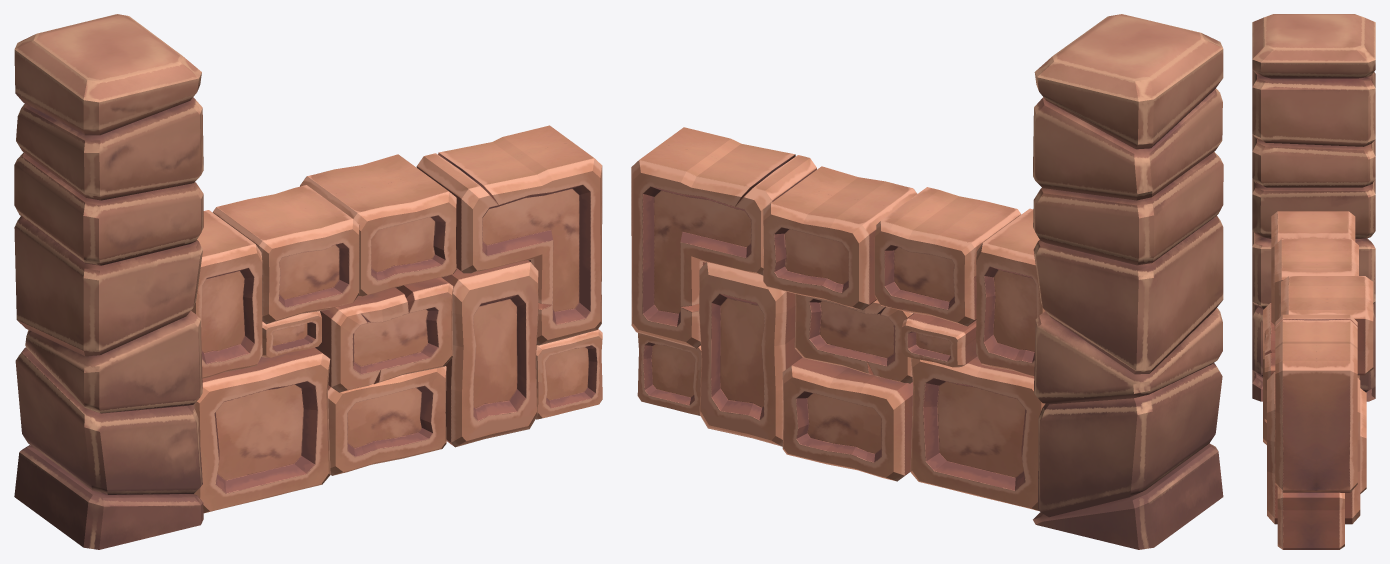
Rendered from HalfWallTallPillar.fbx.
3 renders of one model, left to right at view 1: azimuth 30°, elevation 25°; view 2: azimuth 150°, elevation 25°; view 3: azimuth 270°, elevation 25°, orthographic. The views are drawn at different scales.
Parts seen in each view (by area): view 1: HalfWallTallPillar; view 2: HalfWallTallPillar; view 3: HalfWallTallPillar.
Boxes of the visible parts, box(x1,y1,x2,y2) form: HalfWallTallPillar: box(14, 14, 602, 549); HalfWallTallPillar: box(631, 14, 1223, 549); HalfWallTallPillar: box(1252, 14, 1375, 549).
Bounding box in the file's own units: 2.38 × 1.98 × 0.6295.
